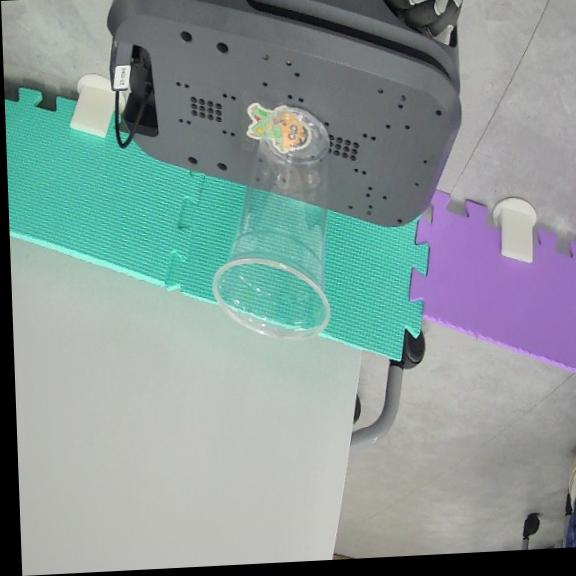Plastik: (213, 107, 328, 338)
